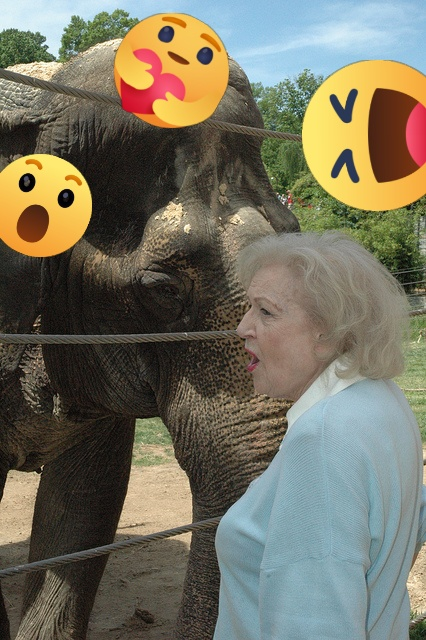care: (114, 13, 229, 128)
haha: (302, 60, 426, 211)
wow: (0, 154, 92, 257)
